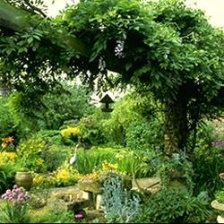neutral: (2, 2, 223, 222)
